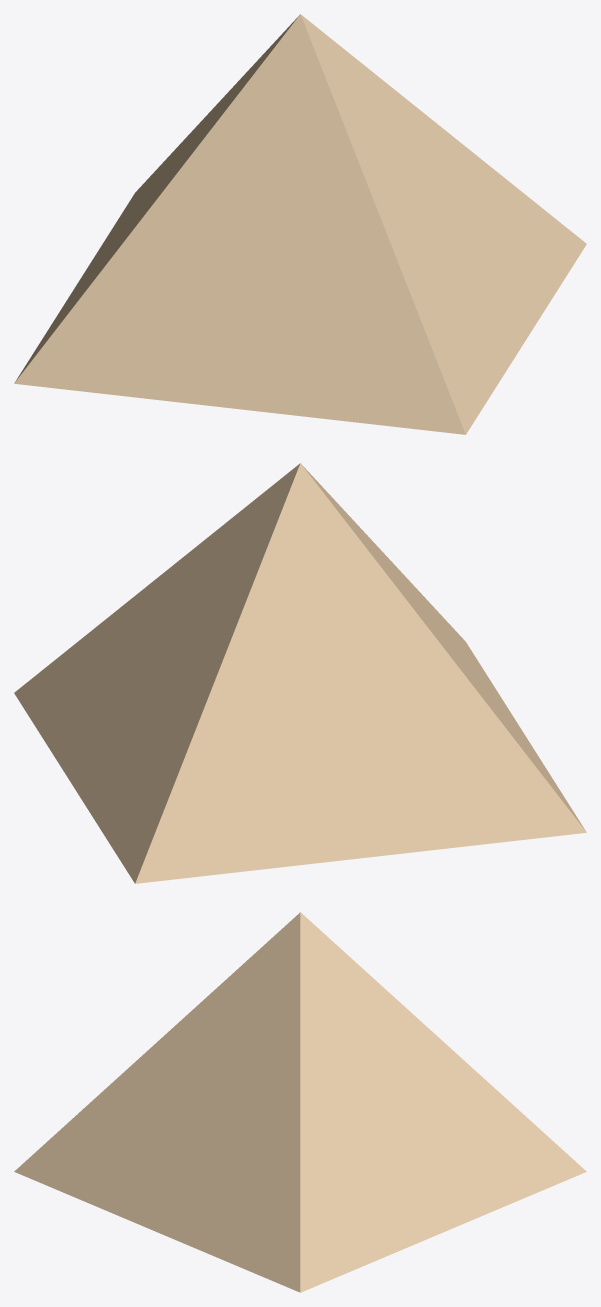
3 renders of one model, top to bottom at view 1: azimuth 30°, elevation 25°; view 2: azimuth 150°, elevation 25°; view 3: azimuth 270°, elevation 25°, orthographic. The views are drawn at different scales.
Parts seen in each view (by area): view 1: Cone; view 2: Cone; view 3: Cone.
Part boxes in pixels (box(x1,y1,x2,y2)): Cone: box(14, 14, 586, 434); Cone: box(14, 463, 586, 883); Cone: box(14, 912, 586, 1292).
Bounding box in the file's own units: 6 × 3 × 6.
